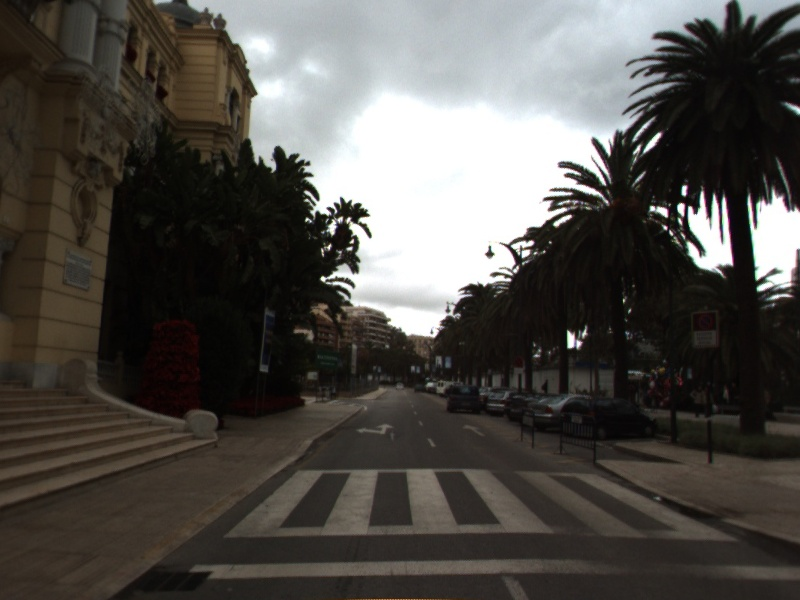STRAIGHT: (460, 422, 488, 438)
STRAIGHT_LEFT: (354, 421, 396, 436)
